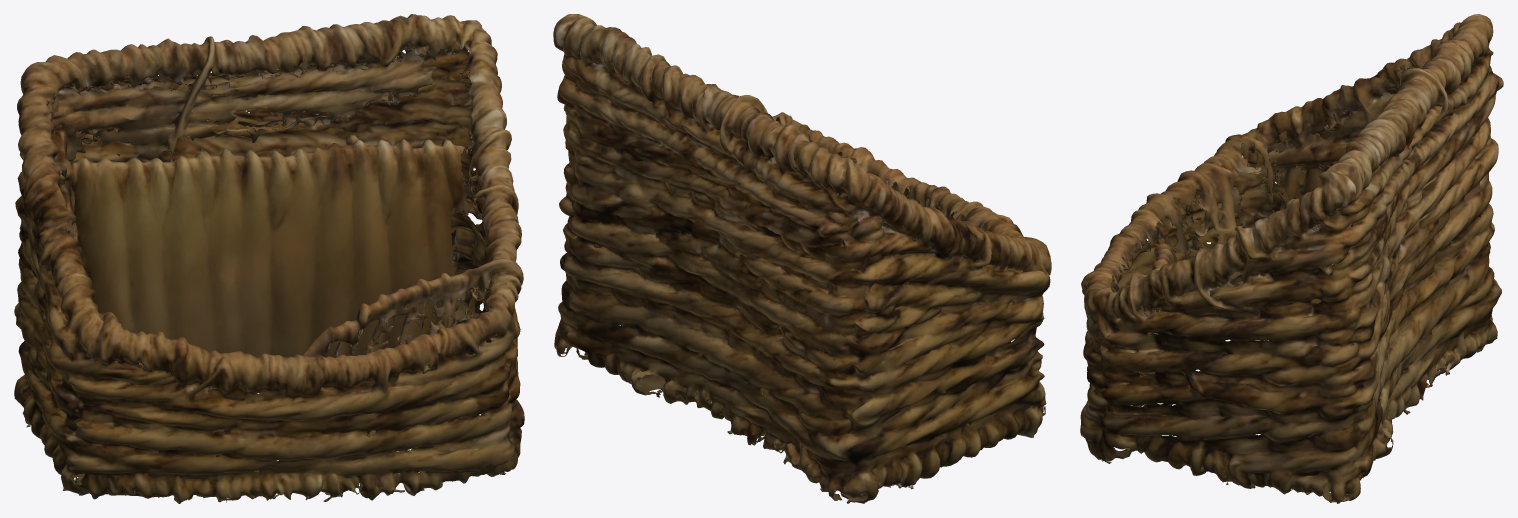
Rendered from Smith_Hawken_Woven_BasketTray_Organizer_with_3_Compartments_95_x_9_x_13.glb.
3 views of the same model, side by side, from view 1: azimuth 30°, elevation 25°; view 2: azimuth 150°, elevation 25°; view 3: azimuth 270°, elevation 25° (orthographic). The views are drawn at different scales.
Visible parts, largest first — view 1: geometry_0; view 2: geometry_0; view 3: geometry_0.
Boxes of the visible parts, box(x1,y1,x2,y2) form: geometry_0: box(14, 14, 524, 503); geometry_0: box(553, 14, 1051, 503); geometry_0: box(1080, 14, 1503, 503).
Size of the model in its own units: 0.9987 by 0.7378 by 0.8204.
Materials: 1 (1 with a texture image).
